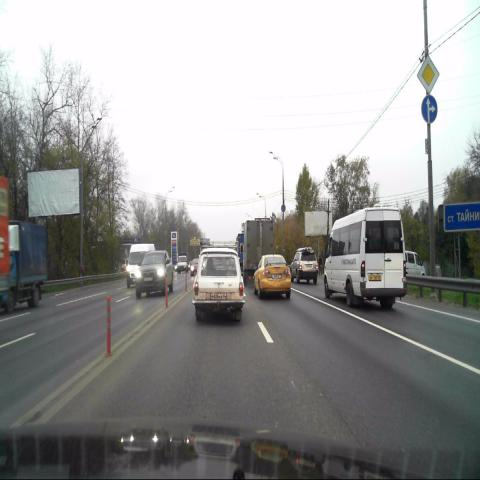4_1_4: (420, 95, 438, 122)
